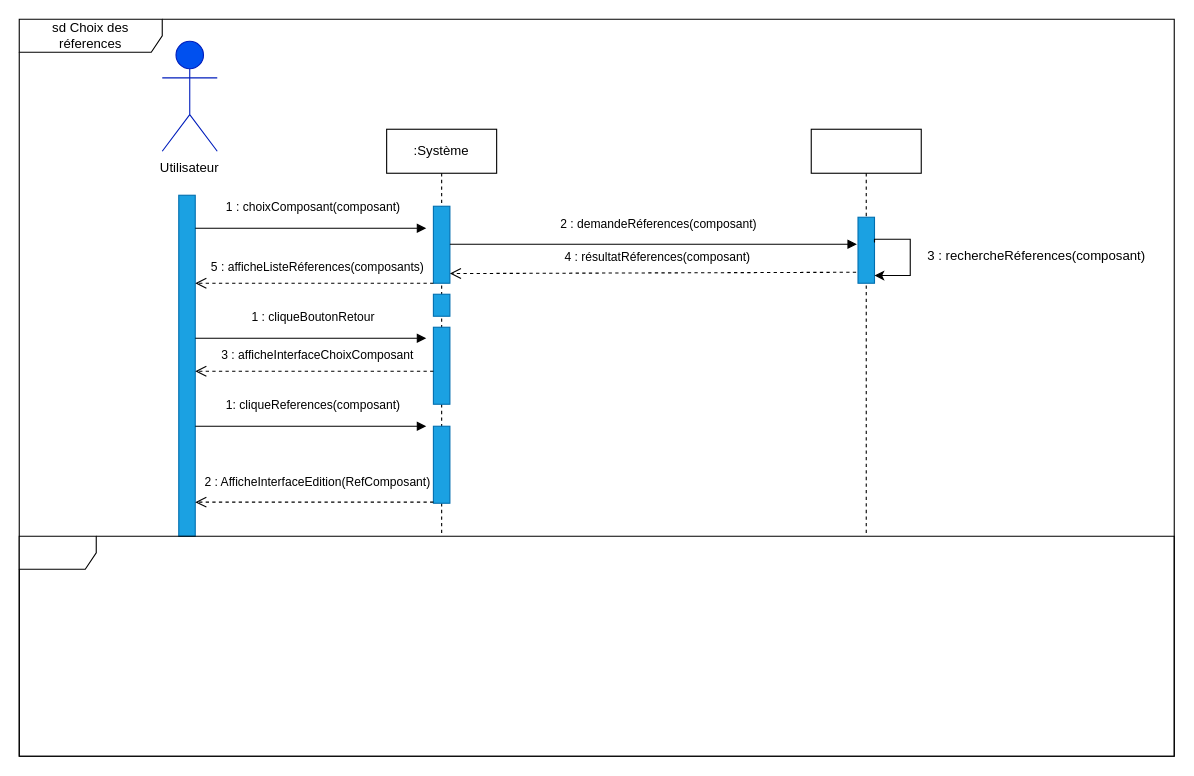
This 1194x776 diagram has some shape labels left out. Here are the shapes that lost their labels. From the top down, the box of each, then its label:
(810, 128, 921, 536): :BDD
(18, 535, 1174, 756): Ref Mode aventure
